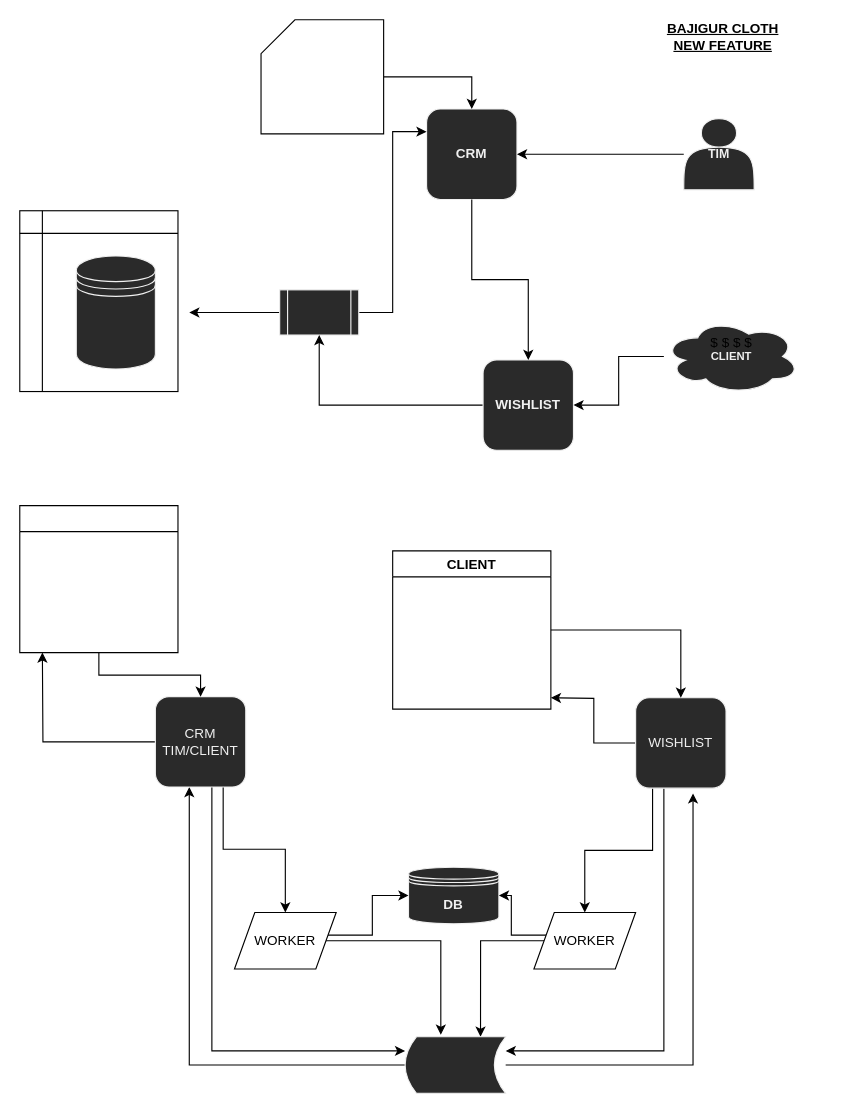
The diagram is 842 pixels wide and 1113 high, and some of its shapes have lost their labels. The centre of each missing label's shape, as x and y in pixels:
"ADMINISTRATOR" goes at point 98,579.
"CACHE" goes at point 455,1064.
"DATA CENTER" goes at point 115,312.
"Process" goes at point 319,312.
"TO DO - WishList - Email marketing - Discount - Loyalitas Member - Giveaway" goes at point 322,76.
